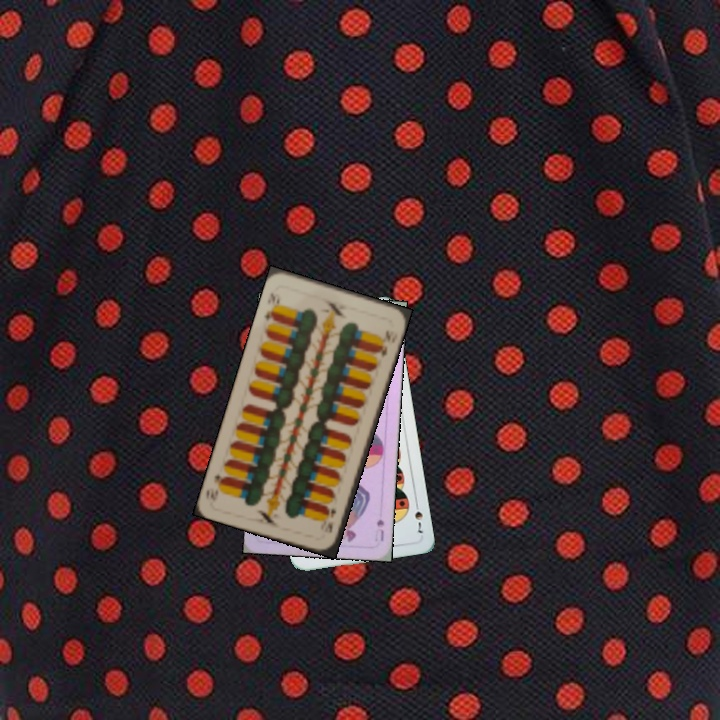E10: (260, 289, 283, 323), (318, 504, 338, 536)
S7: (411, 497, 425, 536)
SU: (370, 515, 387, 544)
